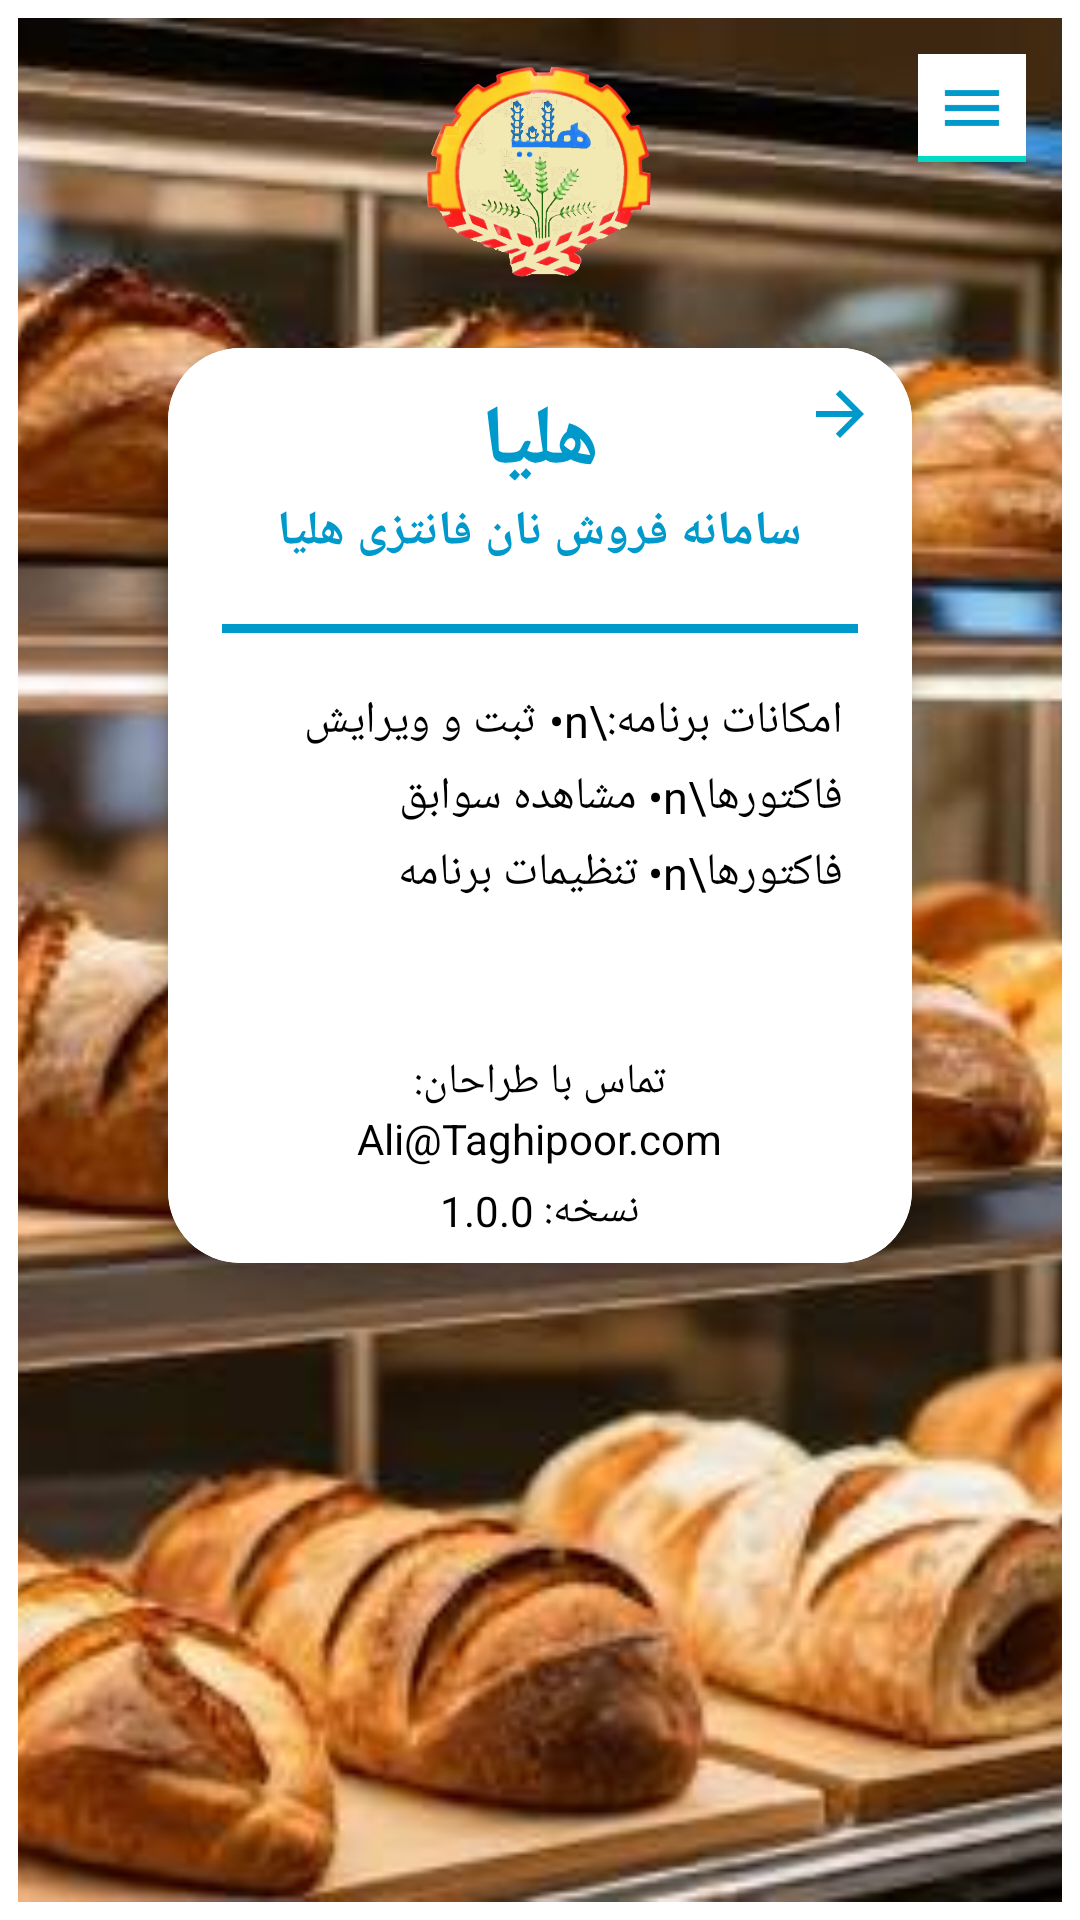

Where to tap for icons on this 1080*1920 app screen, as (x,y):
بازگشت به صفحه ورود: (840,414)
منو: (972,108)
